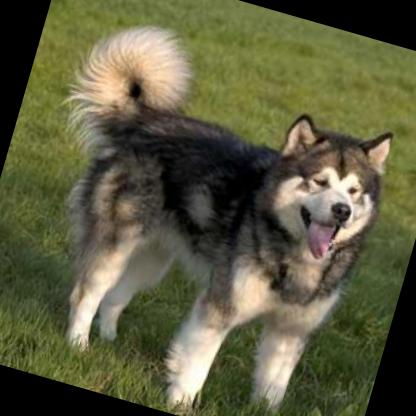malamute: (0, 5, 413, 416)
